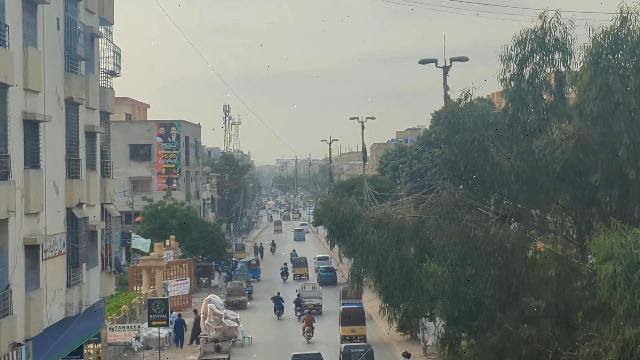Bike: (304, 326, 312, 343), (275, 304, 283, 320), (295, 304, 303, 320)
Car: (316, 265, 337, 285), (312, 254, 332, 270)
Person: (188, 306, 203, 344), (172, 312, 187, 349), (302, 310, 315, 327), (271, 291, 284, 306), (294, 293, 303, 306)
Rickshaw: (337, 305, 369, 345), (337, 342, 375, 360), (290, 256, 310, 280)
Suzuki: (296, 280, 325, 316), (223, 279, 249, 309)
